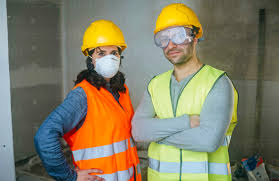Helmet: (149, 6, 232, 40), (82, 16, 129, 48)
Jacket: (144, 68, 234, 181), (76, 75, 135, 181)
